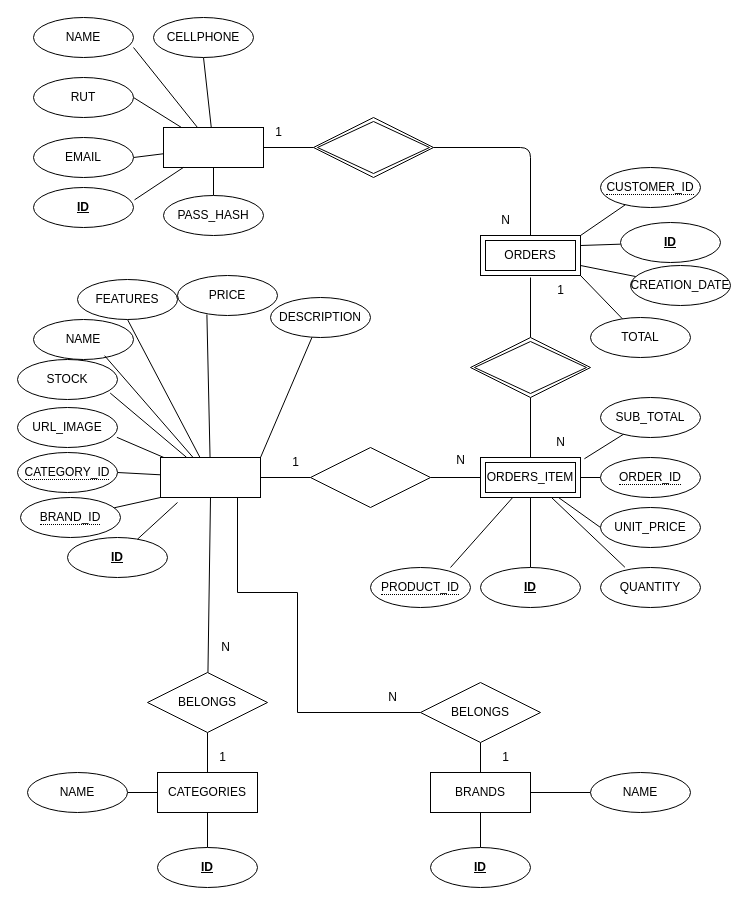
Some shapes in this 748 by 905 pixel diagram are drawn without their labels. The shapes that lost their labels are listed below. From the top down, each one's centre as x and y in pixels, then its label:
(x=213, y=147): CUSTOMERS
(x=373, y=147): MAKE
(x=530, y=367): INCORPORATE
(x=210, y=477): PRODUCTS
(x=370, y=477): CONTAINS
